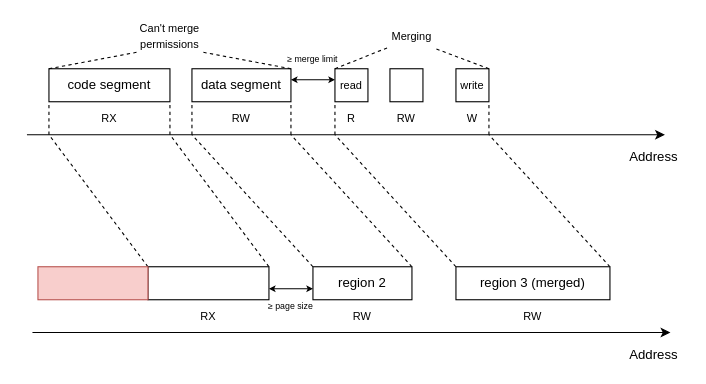
Some shapes in this 706 by 384 pixel diagram are drawn without their labels. The shapes that lost their labels are listed below. From the top down, each one's box as (x1, y1, x2, y2) in pixels, then its label:
(389, 68, 423, 102): read write
(37, 266, 148, 300): Forbidden
(147, 266, 269, 300): region 1
